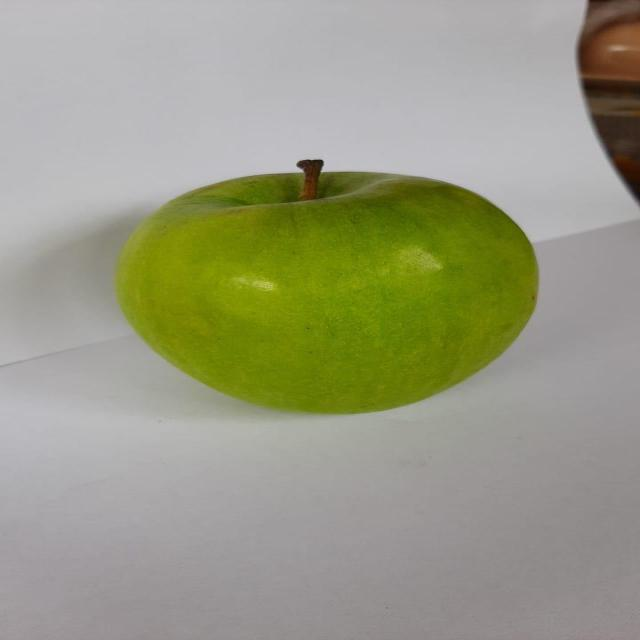Rotten Apple: (104, 152, 547, 424)
